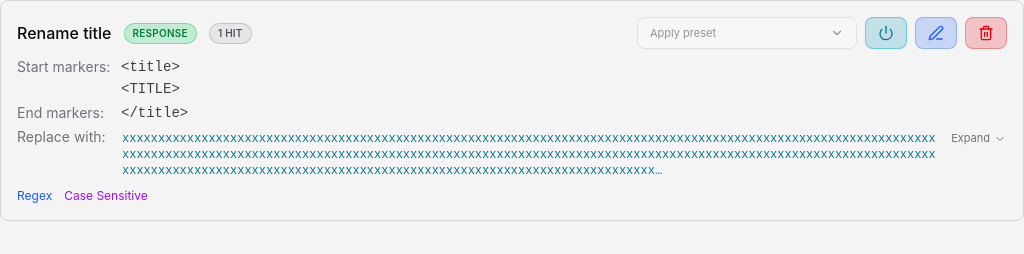
Test: RuleCard › collapses a long replacement and expands it on click
Click the button named "Expand": [564, 155] box [121,130,1007,180]
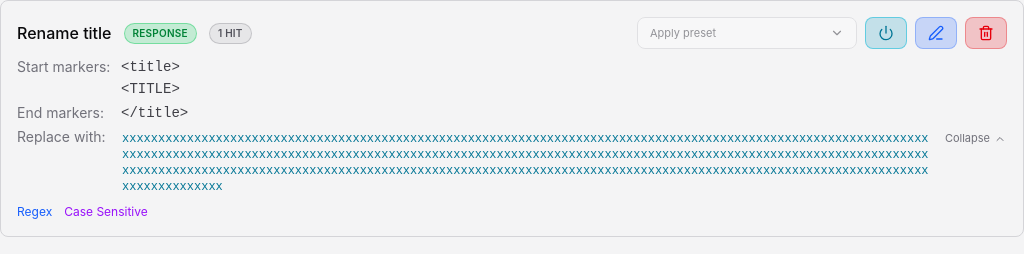
Expected: the text "Collapse" is shown, [945,131,990,147]
